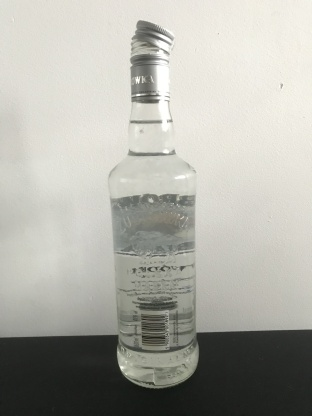nakretka: (129, 18, 175, 103)
